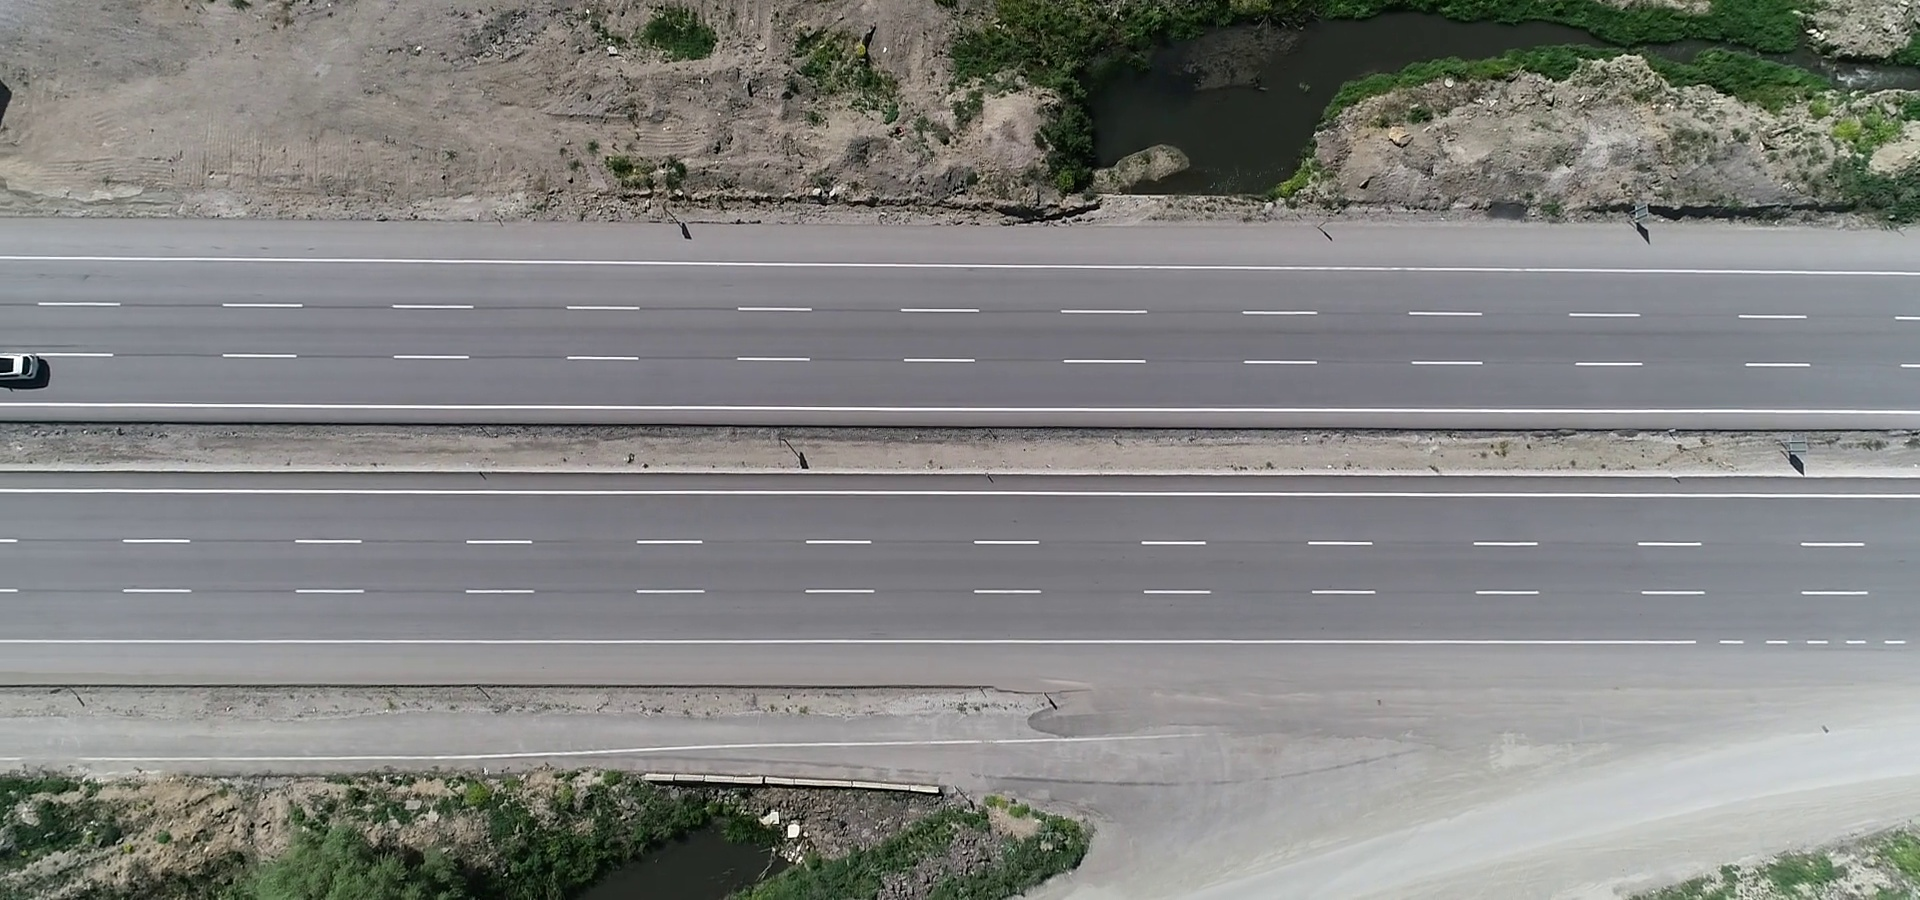araba: (1, 345, 39, 391)
